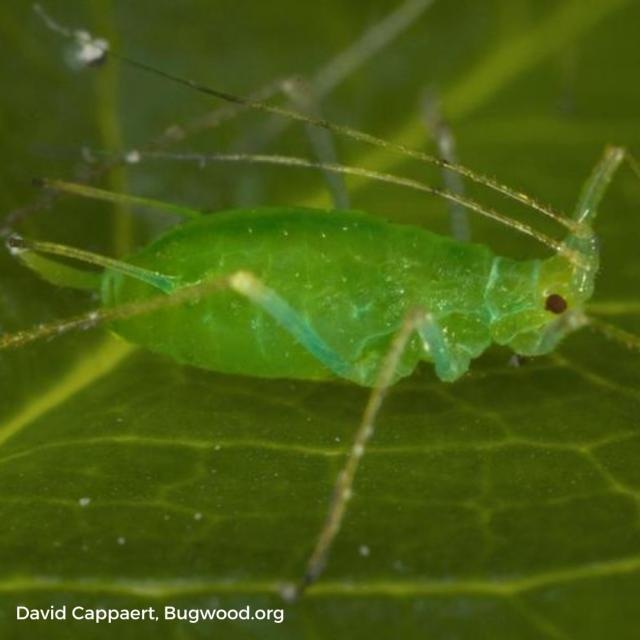Aphids: (0, 56, 640, 596)
